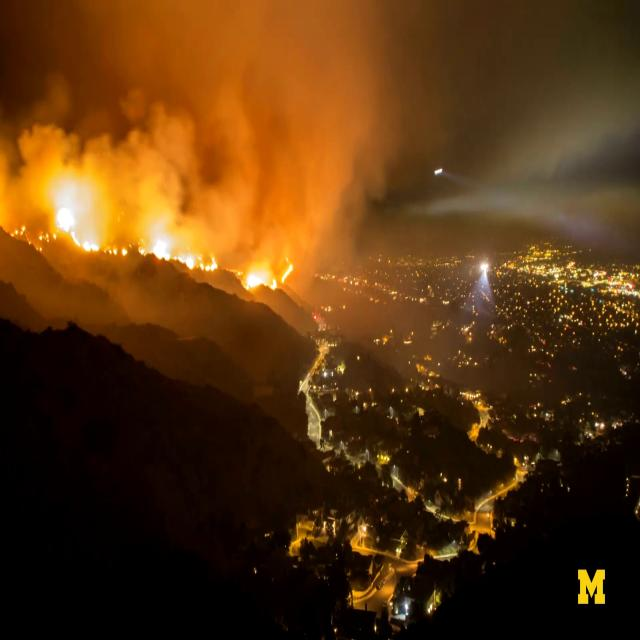fire: (0, 169, 217, 285), (238, 252, 302, 307)
smoke: (6, 2, 366, 170), (210, 176, 354, 252)
